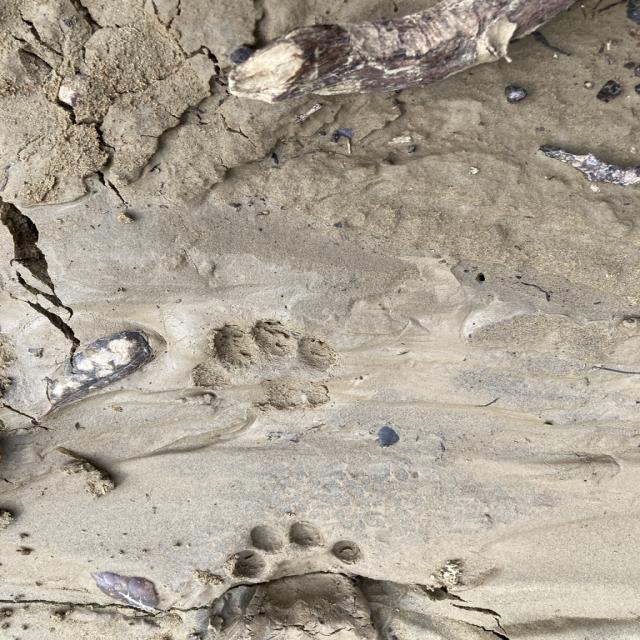felid: (195, 322, 340, 417), (232, 524, 366, 608)
